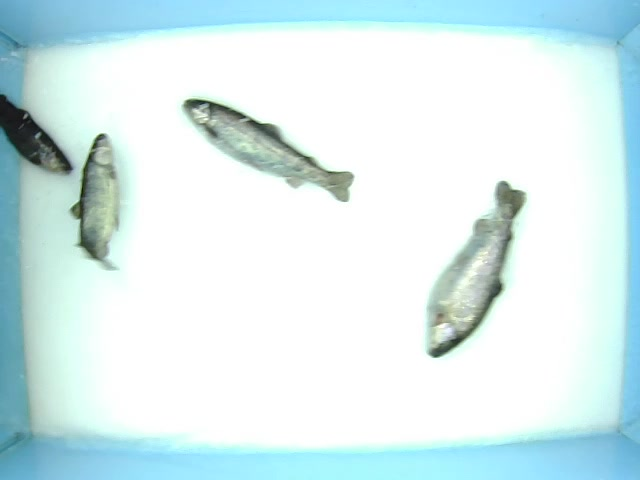fish: (177, 94, 354, 206), (422, 180, 528, 359), (67, 133, 126, 274)
